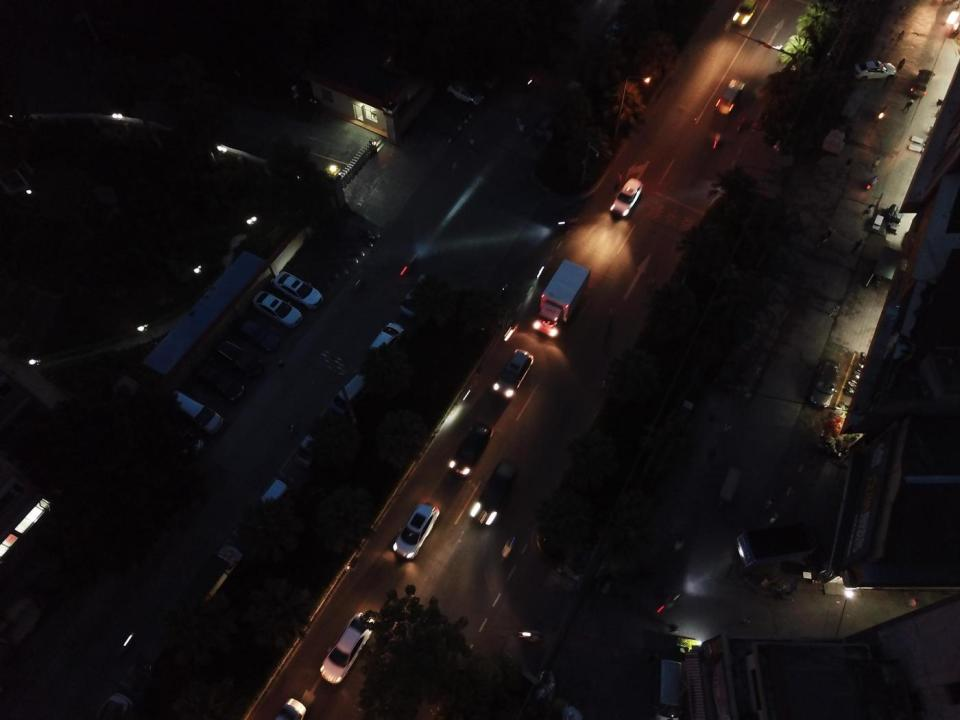car: (320, 611, 375, 684), (188, 545, 244, 604), (470, 458, 518, 525), (392, 499, 440, 560), (448, 422, 494, 478), (150, 415, 206, 461), (492, 348, 535, 400), (273, 270, 325, 312), (252, 288, 303, 329), (212, 338, 263, 378), (200, 365, 246, 404), (237, 316, 283, 353), (809, 358, 842, 409), (399, 273, 435, 319), (366, 320, 406, 361), (610, 177, 645, 221), (713, 77, 745, 116), (852, 60, 896, 82), (731, 0, 760, 29), (274, 697, 308, 720), (908, 68, 934, 97)
truck: (532, 260, 591, 340), (734, 519, 820, 569)
van: (167, 389, 225, 435), (650, 657, 683, 720), (327, 372, 368, 418), (714, 464, 746, 514), (294, 426, 327, 468), (257, 478, 288, 512)
